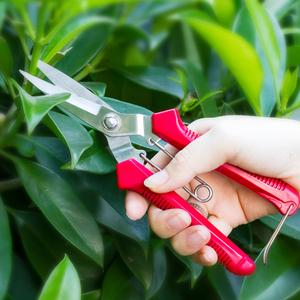scissor: (28, 46, 290, 262)
